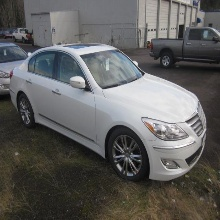no damage: (8, 42, 207, 183), (149, 26, 220, 69), (1, 41, 26, 92)
